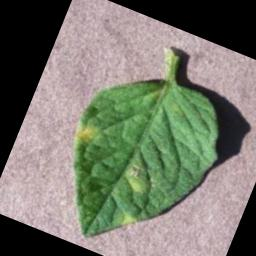Leaf_Mold: (72, 119, 102, 149), (113, 210, 138, 233)
